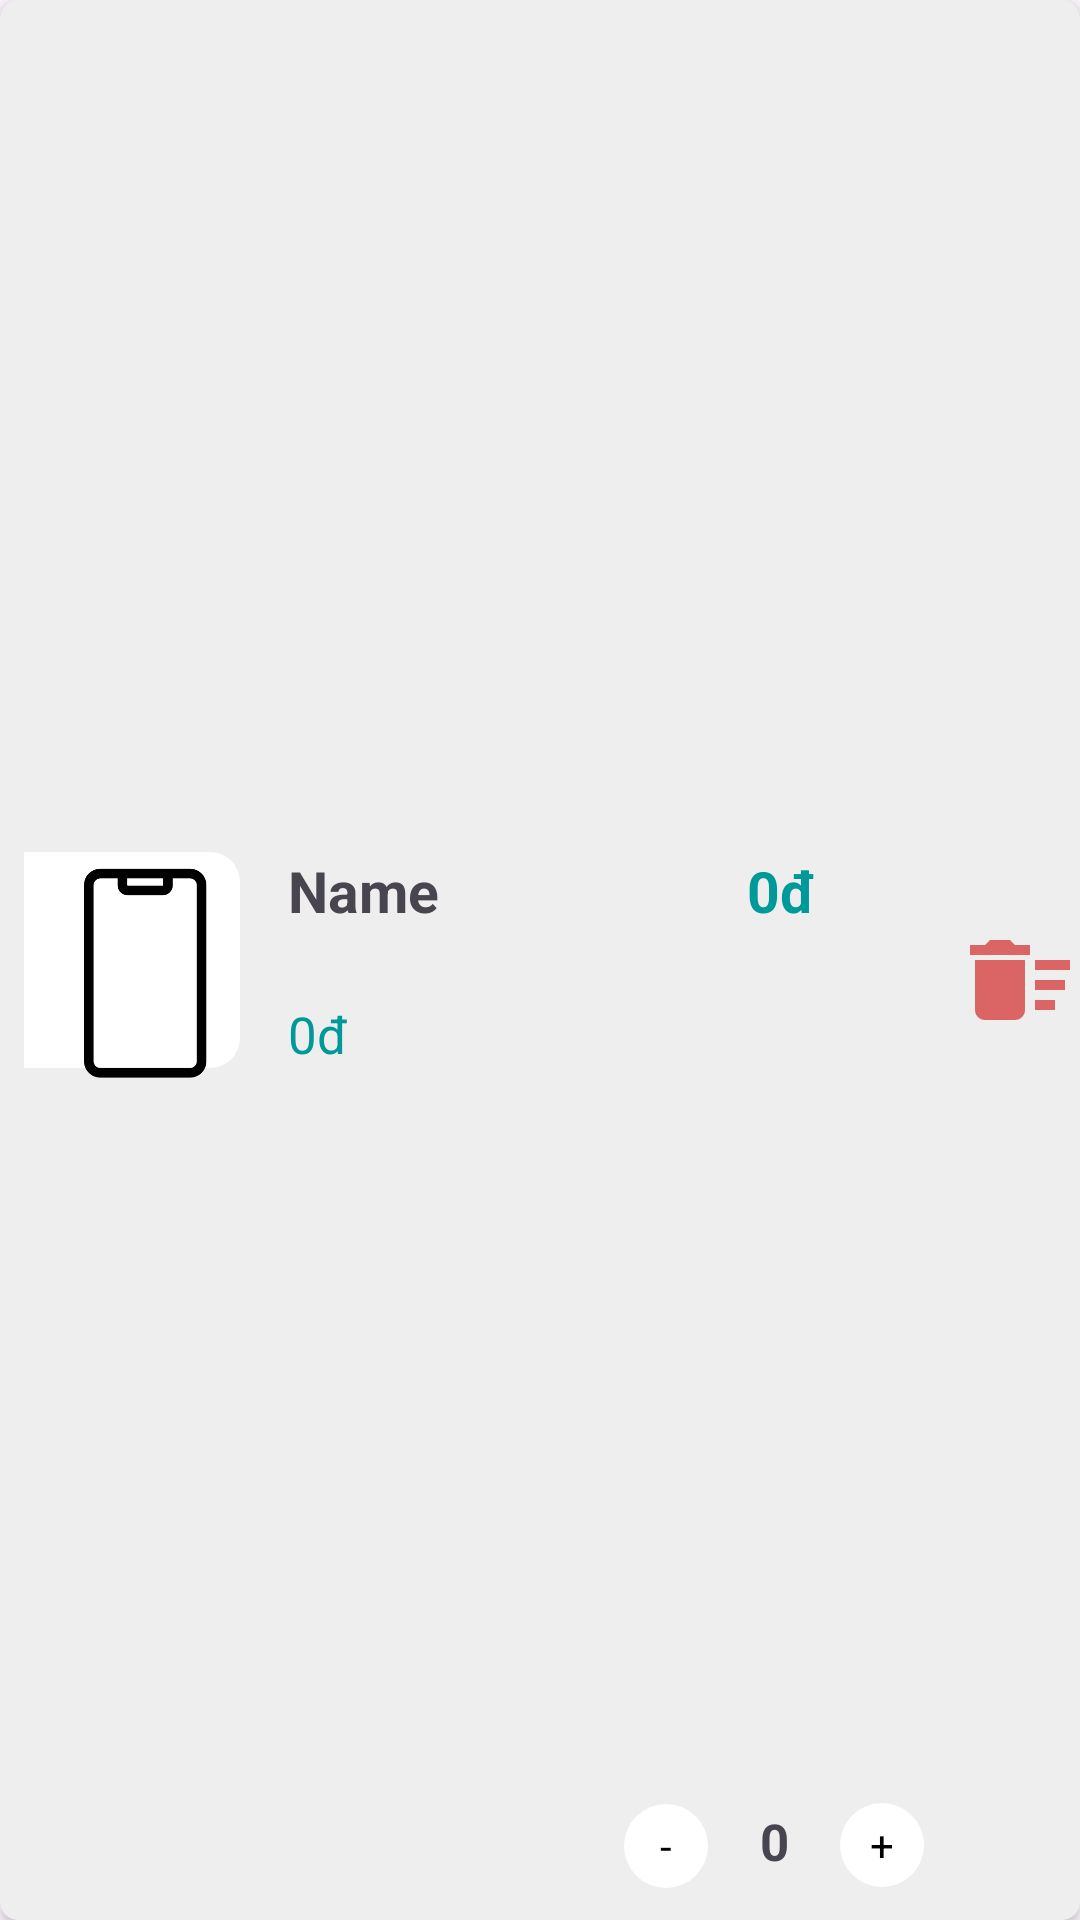

Point at icon controls on the screen. Image size 1080 × 1920, points as [x,y].
delete sweep: [1020,980]
phone: [132,965]
